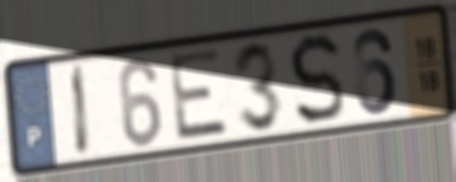3: (231, 37, 284, 136)
6: (115, 53, 165, 151), (351, 26, 399, 117)
E: (166, 45, 233, 145)
I: (69, 61, 94, 160)
S: (286, 30, 347, 129)
